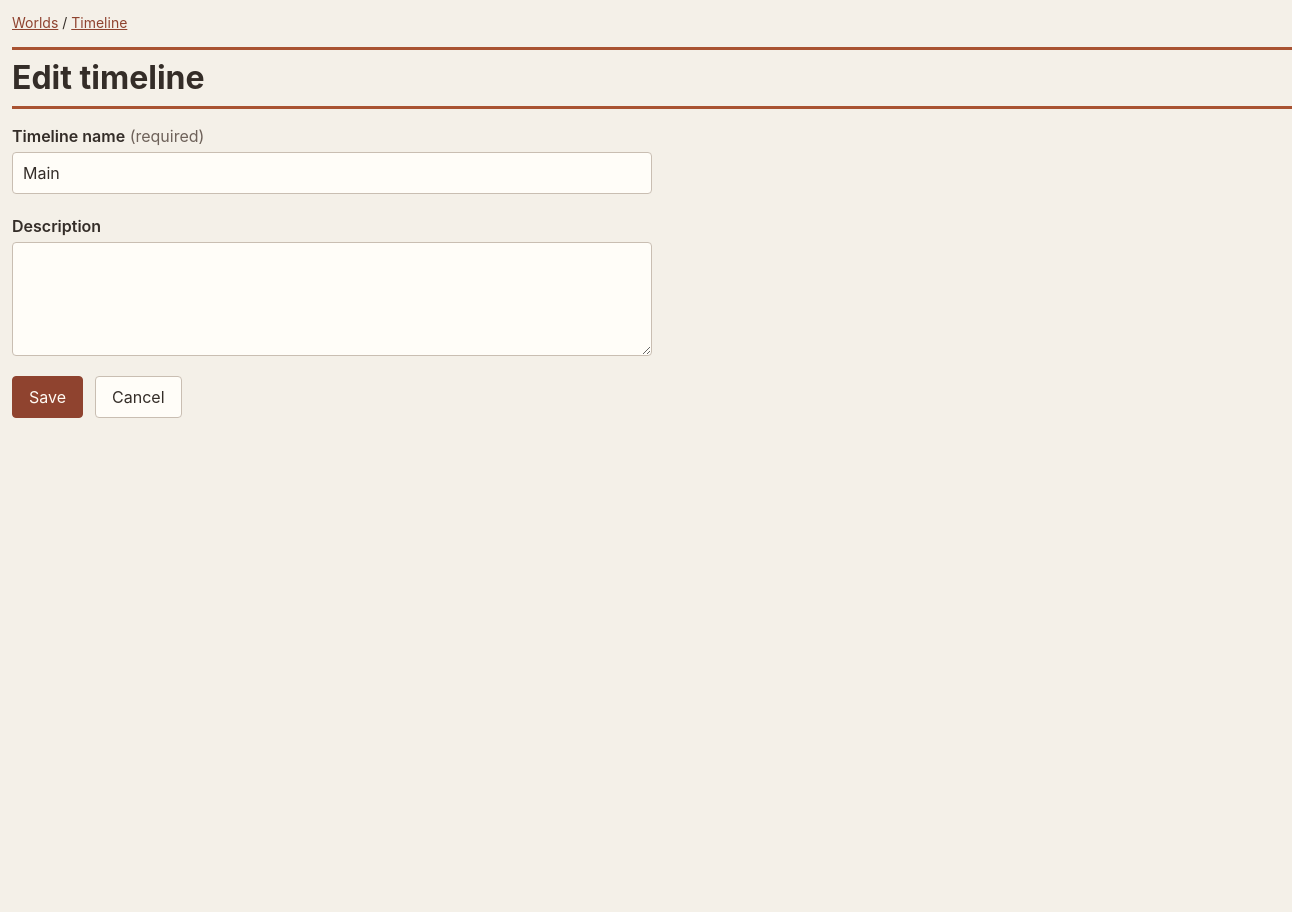
Scenario: EditTimelinePage › recovers from a stale write keeping the user's values
The image size is (1292, 912).
Replace the text in the field labelled "Timeline name (required)" with "Mine" at (332,173), box [12, 152, 652, 194]
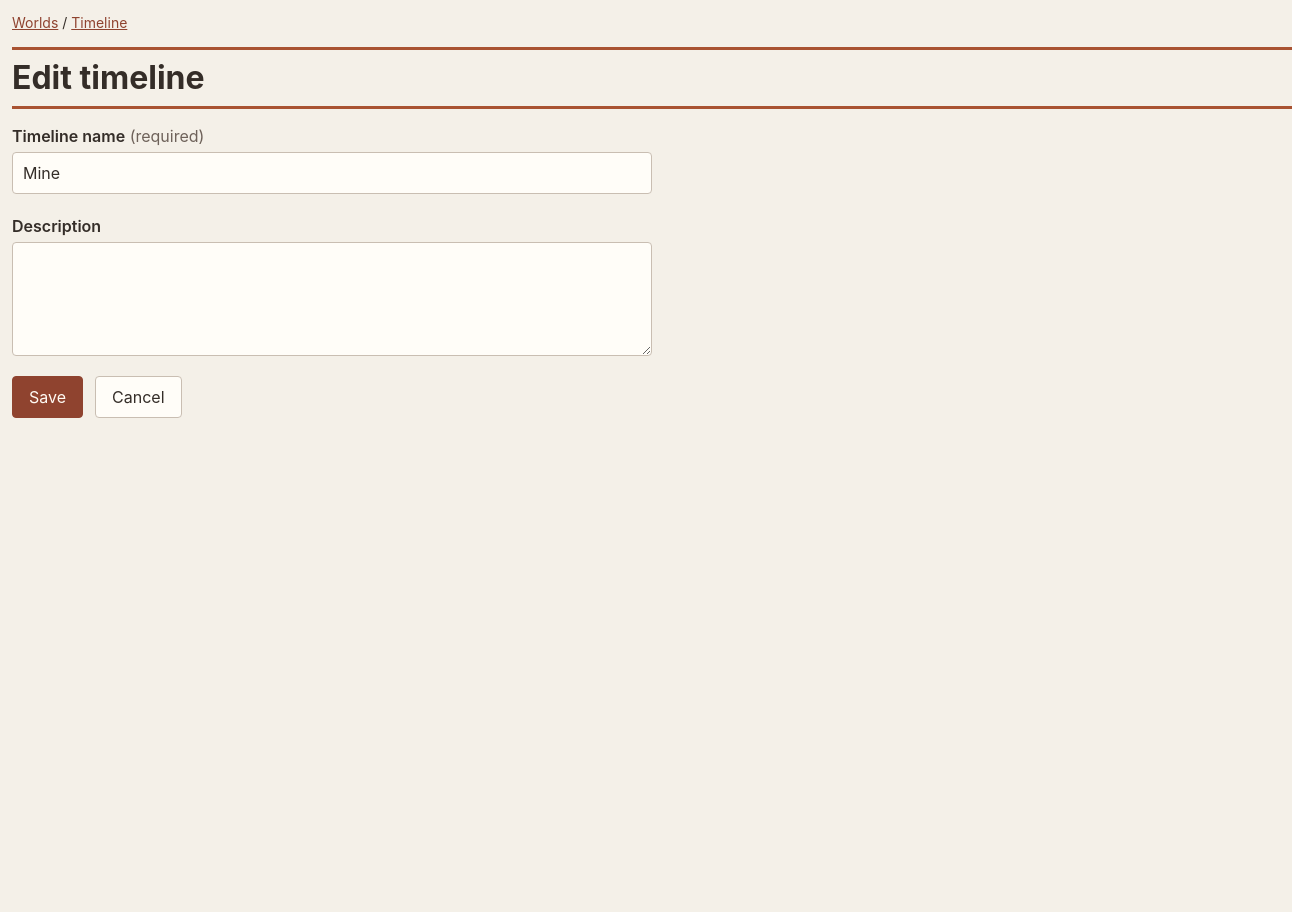
Click the button "Save" at (48,397), box [12, 376, 83, 418]
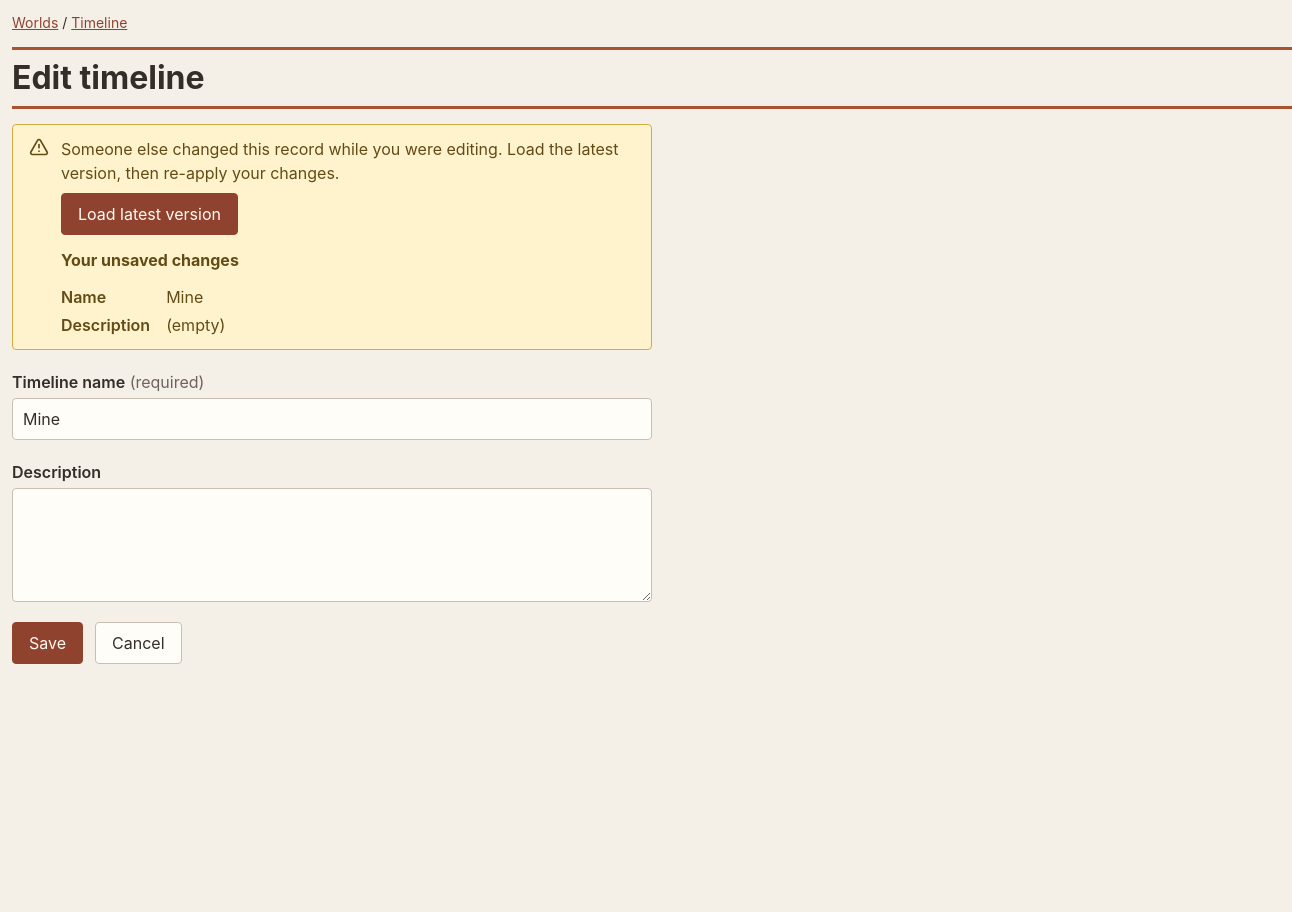
Now the button "Load latest version" is shown
Click the button "Load latest version" at (149,214), box [61, 193, 238, 235]
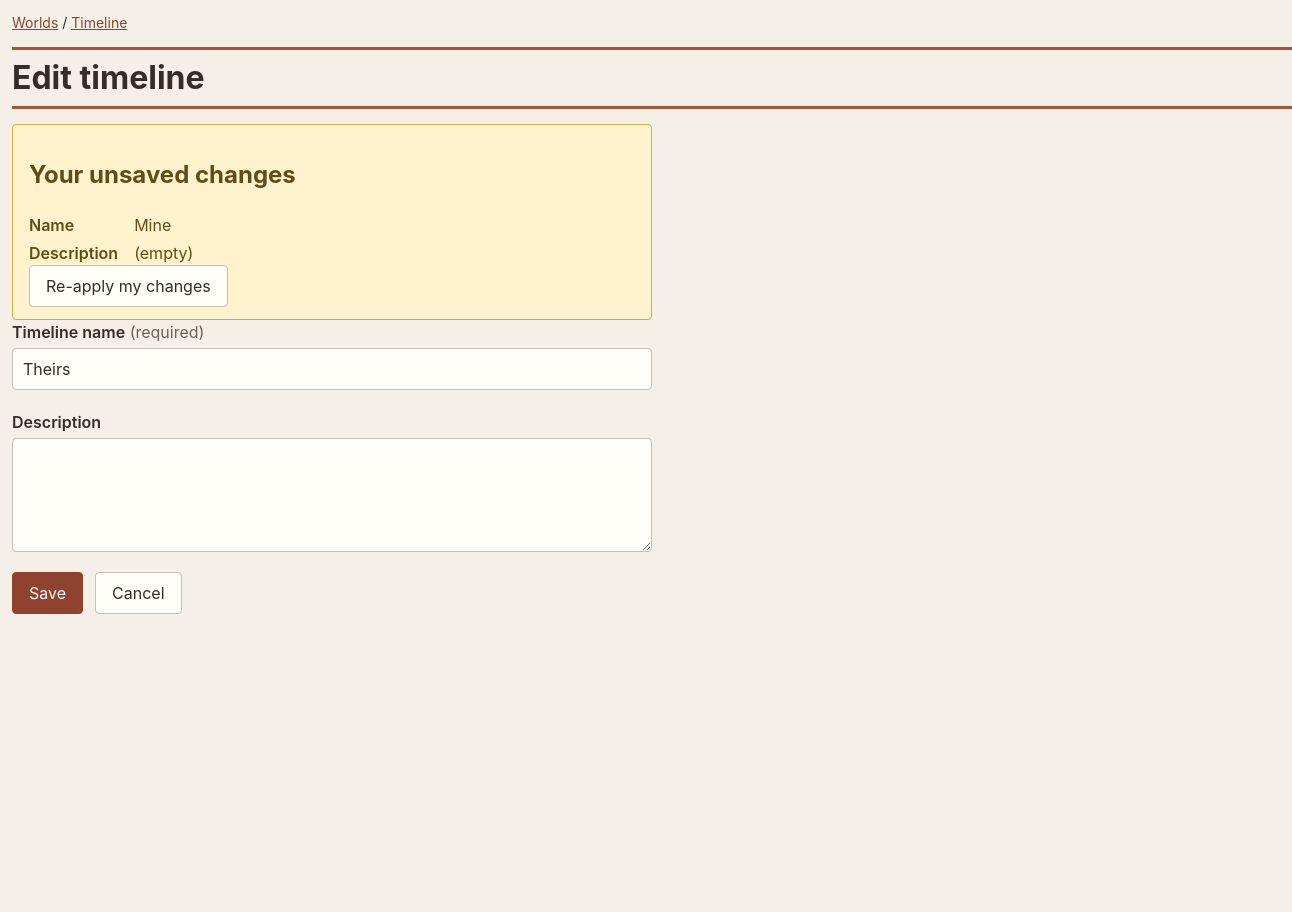
Now the field labelled "Timeline name (required)" holds "Theirs", box [12, 348, 652, 390]
Now the element "Your unsaved changes" shows "Mine", box [134, 215, 171, 235]
